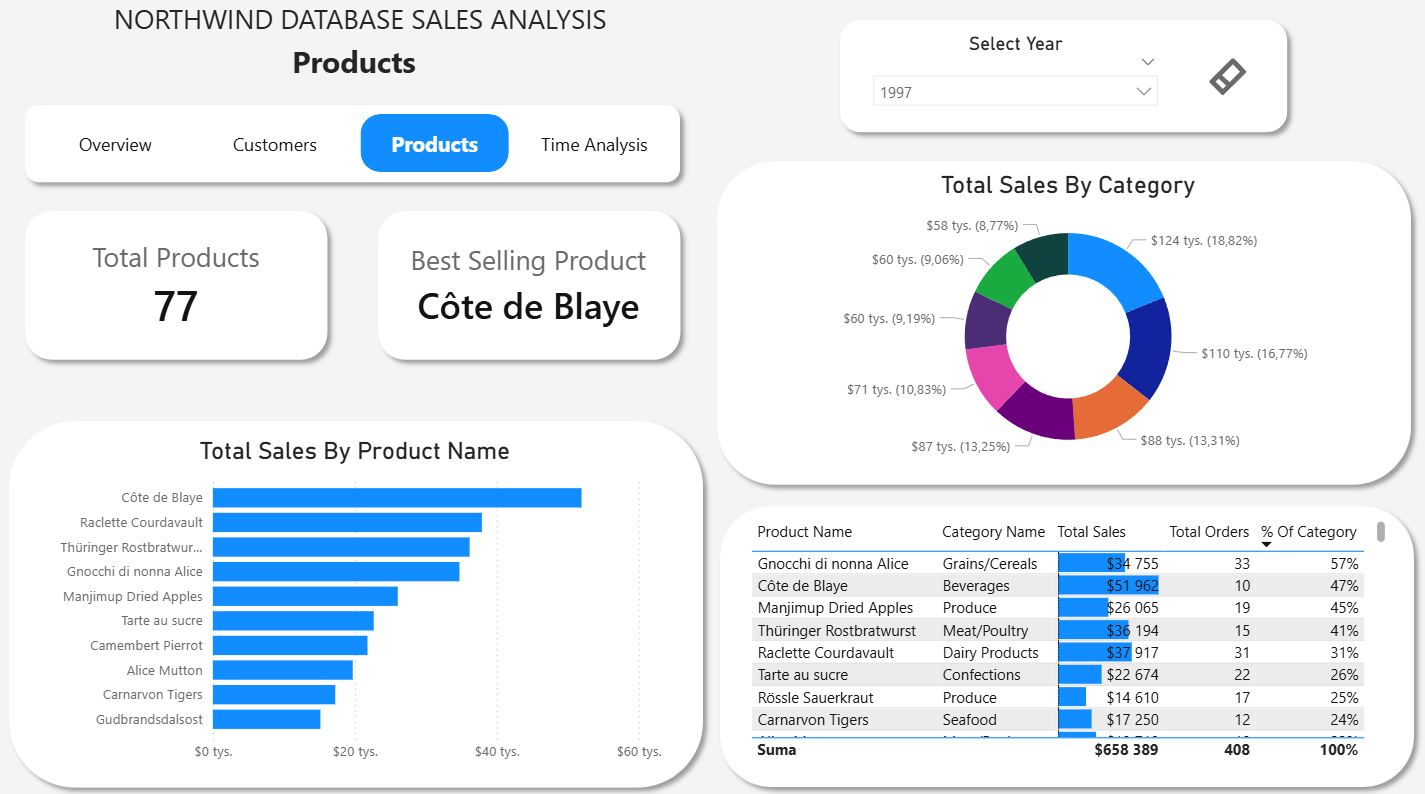

Layout of this report page (visuals, bound fields, positions):
{"tool":"powerbi","page":{"name":"Products","canvas":[1280,720],"ordinal":2},"visuals":[{"type":"shape","box":[640.6,450,639.4,269.5],"z":0},{"type":"shape","box":[3.4,373.3,639.4,346.2],"z":1000},{"type":"shape","box":[637.2,141,639.4,307.9],"z":2000},{"type":"textbox","box":[0,0,654.1,53],"z":3000},{"type":"textbox","box":[0,37,642.8,54.1],"z":4000},{"type":"shape","box":[18.1,185,288.7,151.1],"z":5000},{"type":"shape","box":[333.9,185,288.7,151.1],"z":6000},{"type":"cardVisual","fields":{"Data":["Measure.Best Selling Product"]},"box":[315.8,200.7,323.7,119.5],"z":7000},{"type":"cardVisual","fields":{"Data":["Measure.Total Products"]},"box":[0,200.7,324.8,119.5],"z":8000},{"type":"shape","box":[747.7,14.7,418.4,118.4],"z":9000},{"type":"slicer","title":"Select Year","fields":{"Values":["date_dim.year"]},"box":[776.2,34,275.3,88.5],"z":10000},{"type":"actionButton","box":[1083.5,53.5,49.6,40.9],"z":11000},{"type":"donutChart","title":"Total Sales By Category","fields":{"Category":["products_dim.category_name"],"Y":["Measure.Total Sales"]},"box":[688.6,158.5,544.7,272.3],"z":12000},{"type":"clusteredBarChart","title":"Total Sales By Product Name","fields":{"Y":["Measure.Total Sales"],"Category":["products_dim.product_name"]},"box":[41.8,396.8,560.2,299.6],"z":13000},{"type":"tableEx","fields":{"Values":["products_dim.product_name","products_dim.category_name","Measure.Total Sales","Measure.Total Orders","Measure.Product % Category"]},"box":[671.6,466.6,579.4,223.9],"z":14000},{"type":"shape","box":[18.2,90.1,604.6,87.2],"z":15000},{"type":"pageNavigator","box":[41.2,107.3,565.3,52.7],"z":16000}]}

Visuals, with their boxes in screenshot pixels (x1, y1, x2, y2), scaled from the page's 1280x720 canvas onto the 1425x794 screenshot:
shape: select_region(713, 496, 1424, 793)
shape: select_region(4, 412, 716, 793)
shape: select_region(709, 155, 1421, 495)
textbox: select_region(0, 0, 728, 58)
textbox: select_region(0, 41, 716, 100)
shape: select_region(20, 204, 342, 371)
shape: select_region(372, 204, 693, 371)
cardVisual - Measure.Best Selling Product: select_region(352, 221, 712, 353)
cardVisual - Measure.Total Products: select_region(0, 221, 362, 353)
shape: select_region(832, 16, 1298, 147)
"Select Year" slicer: select_region(864, 37, 1171, 135)
actionButton: select_region(1206, 59, 1261, 104)
"Total Sales By Category" donutChart: select_region(767, 175, 1373, 475)
"Total Sales By Product Name" clusteredBarChart: select_region(47, 438, 670, 768)
tableEx - products_dim.product_name x products_dim.category_name: select_region(748, 515, 1393, 761)
shape: select_region(20, 99, 693, 196)
pageNavigator: select_region(46, 118, 675, 176)
